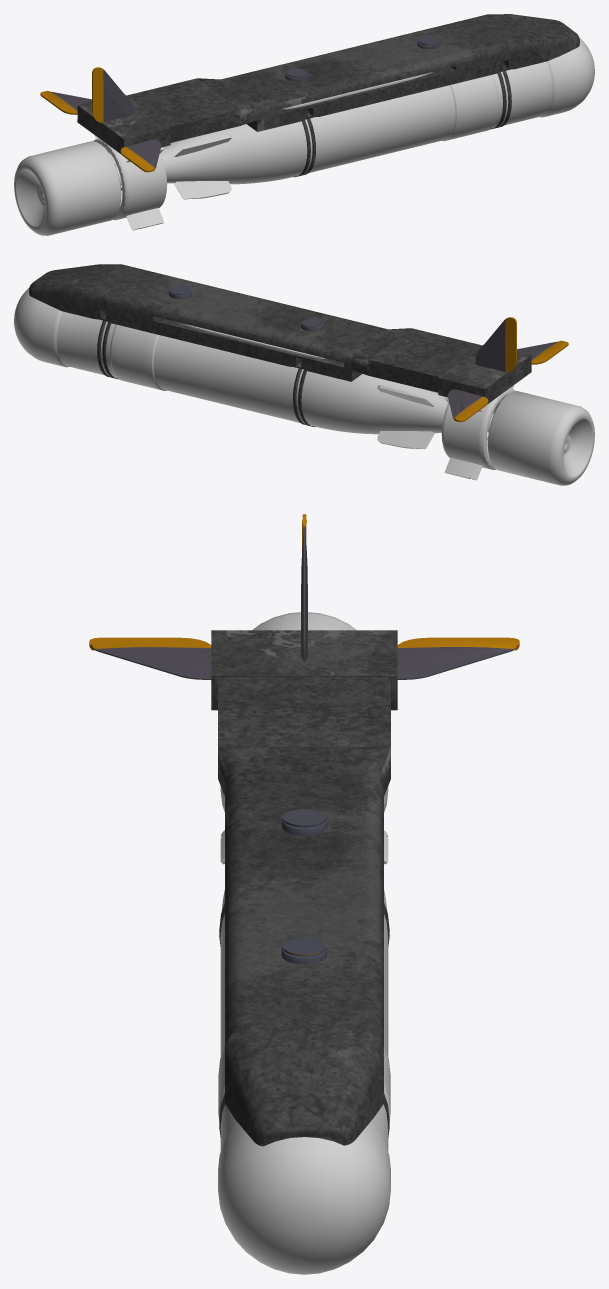
File: RealtorpedoTransformMK54L.fbx
The picture shows the model from 3 angles, top to bottom: view 1: azimuth 30°, elevation 25°; view 2: azimuth 150°, elevation 25°; view 3: azimuth 270°, elevation 25°; orthographic projection. The views are drawn at different scales.
Visible parts, largest first — view 1: KozuchTorpedos, TorpedoMain, ParachuteBox, WingR; view 2: KozuchTorpedos, TorpedoMain, ParachuteBox, WingL; view 3: KozuchTorpedos, TorpedoMain, ParachuteBox.
Boxes of the visible parts, bbox=[...] form: KozuchTorpedos: bbox=[40, 14, 579, 177]; TorpedoMain: bbox=[93, 38, 594, 230]; ParachuteBox: bbox=[14, 141, 121, 235]; WingR: bbox=[282, 72, 432, 109]; KozuchTorpedos: bbox=[29, 264, 568, 427]; TorpedoMain: bbox=[14, 288, 515, 480]; ParachuteBox: bbox=[487, 391, 594, 485]; WingL: bbox=[174, 321, 325, 358]; KozuchTorpedos: bbox=[89, 514, 519, 1146]; TorpedoMain: bbox=[218, 786, 390, 1274]; ParachuteBox: bbox=[252, 612, 356, 630].
Bounding box in the file's own units: 1488 × 390 × 497.
